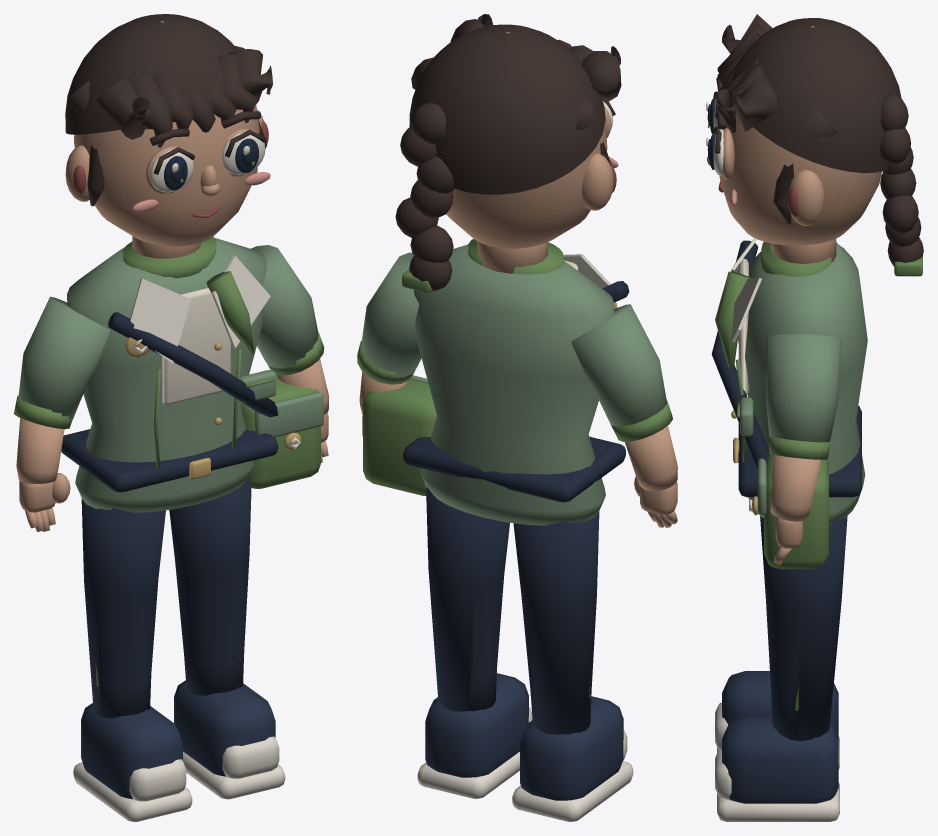
The model's file is npc_farmtown_trainer_3.glb.
The picture shows the model from 3 angles, left to right: view 1: azimuth 30°, elevation 25°; view 2: azimuth 150°, elevation 25°; view 3: azimuth 270°, elevation 25°; orthographic projection.
Parts seen in each view (by area): view 1: figure.036; view 2: figure.036; view 3: figure.036.
Boxes of the visible parts, x1=… form: figure.036: x1=14, y1=14, x2=328, y2=821; figure.036: x1=357, y1=14, x2=677, y2=821; figure.036: x1=706, y1=14, x2=923, y2=821.
Bounding box in the file's own units: 0.6333 × 1.48 × 0.3844.
